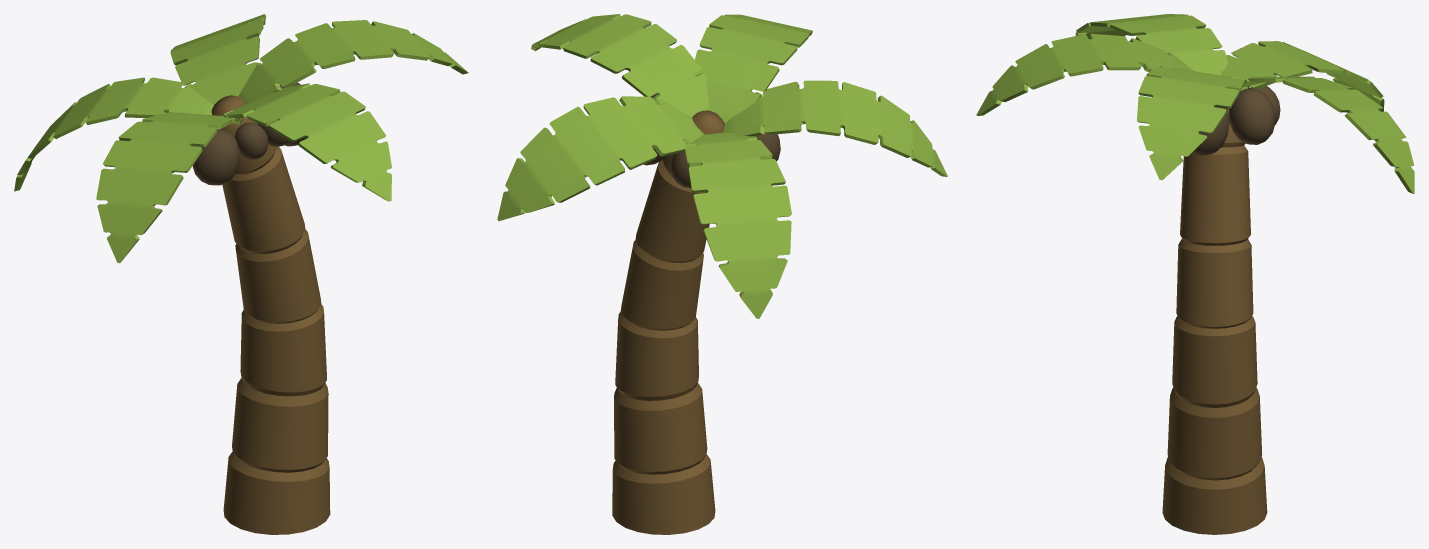
Rendered from SM_PalmTree_3m.fbx.
3 renders of one model, left to right at view 1: azimuth 30°, elevation 25°; view 2: azimuth 150°, elevation 25°; view 3: azimuth 270°, elevation 25°, orthographic. The views are drawn at different scales.
Parts seen in each view (by area): view 1: ThreeM_Tree; view 2: ThreeM_Tree; view 3: ThreeM_Tree.
Boxes of the visible parts, x1=… form: ThreeM_Tree: x1=14, y1=14, x2=468, y2=534; ThreeM_Tree: x1=497, y1=14, x2=947, y2=534; ThreeM_Tree: x1=976, y1=14, x2=1414, y2=534.
Bounding box in the file's own units: 278 × 319 × 276.
